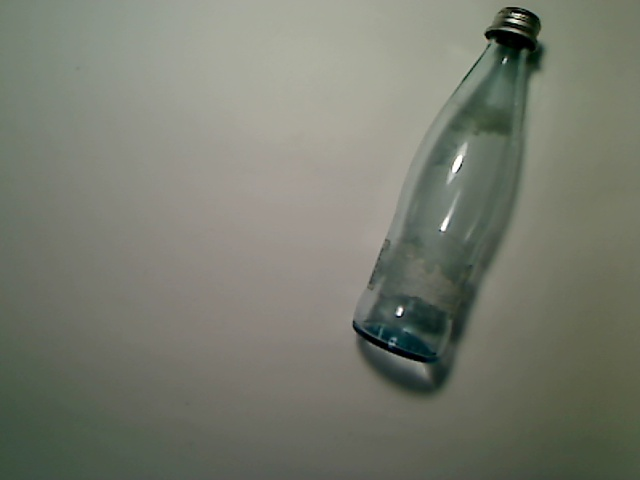bottle: (352, 7, 542, 364)
